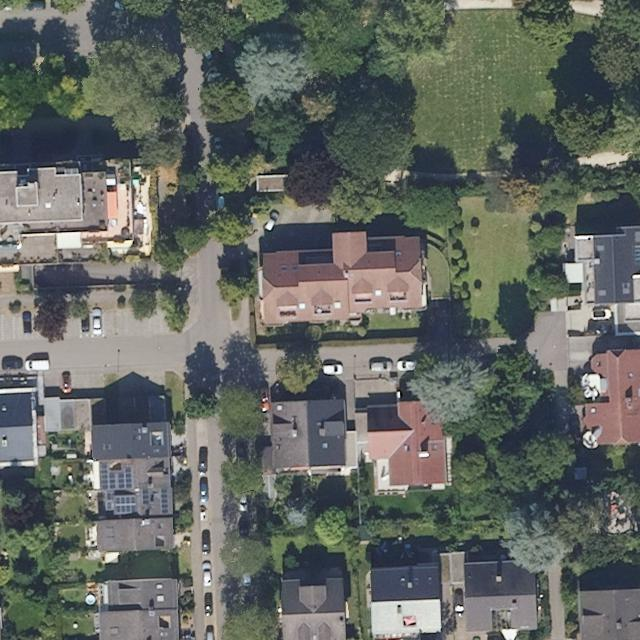PV: (95, 459, 136, 493), (113, 493, 138, 518), (158, 487, 172, 516), (139, 486, 152, 506)
